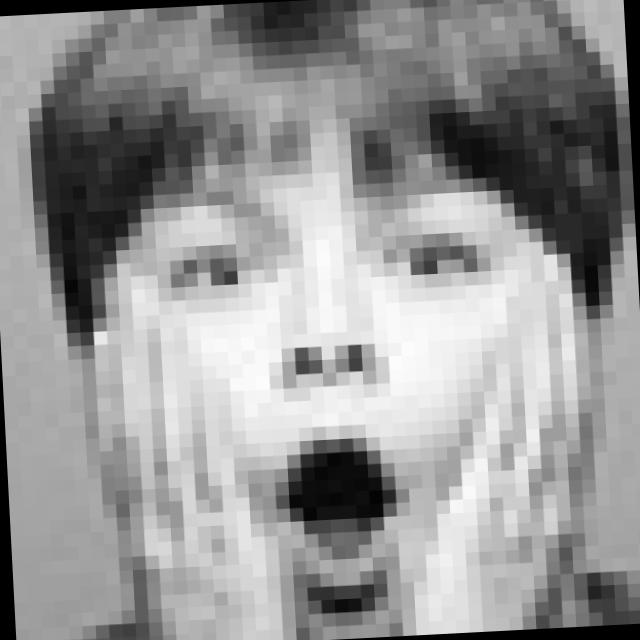surprise: (145, 172, 524, 608)
